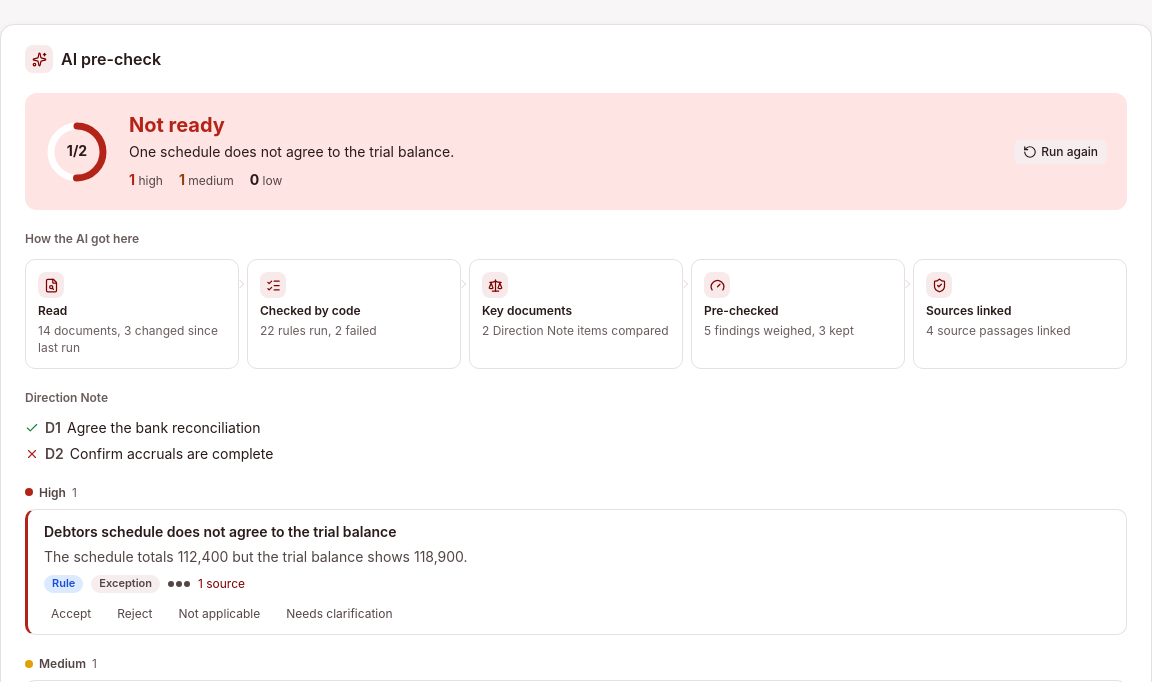
PrecheckPanel states › a finding opens to its quoted source with a Drive link
Click the button with aria-label "Show the evidence for: Debtors schedule": (220, 532) [28,510,1126,601]
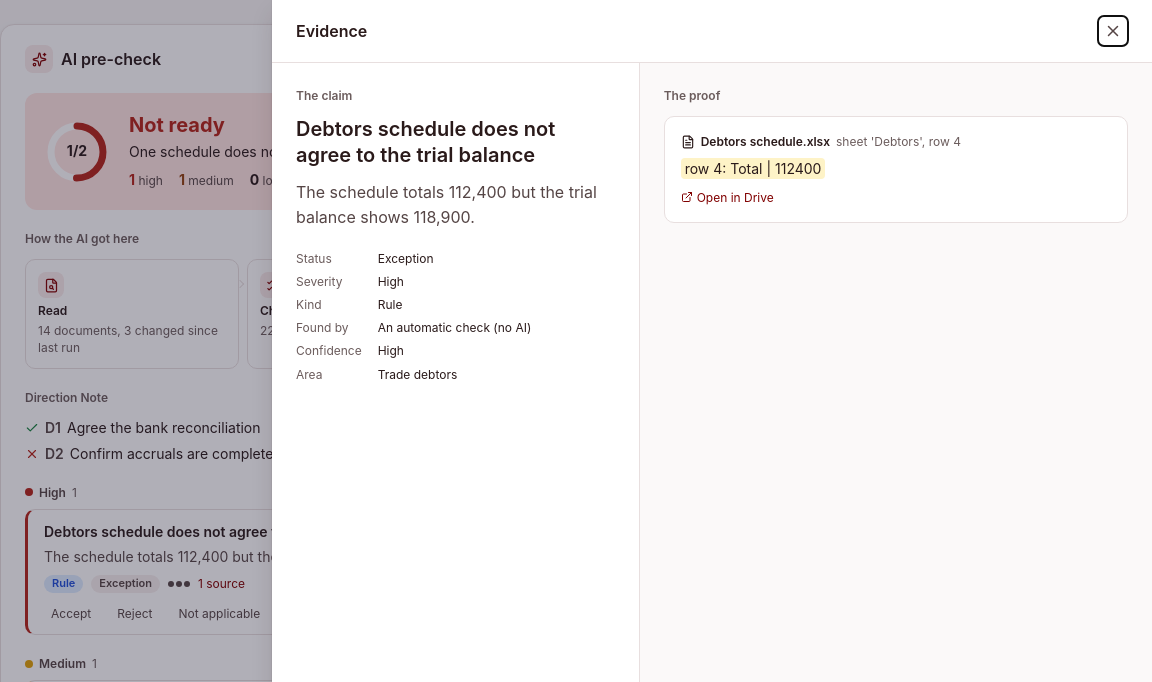
Result: the text "The claim" is shown at [296,88,352,103]
Result: the text "Debtors schedule.xlsx" is shown at [701,133,830,150]
Result: the text "sheet 'Debtors', row 4" is shown at [836,133,961,150]
